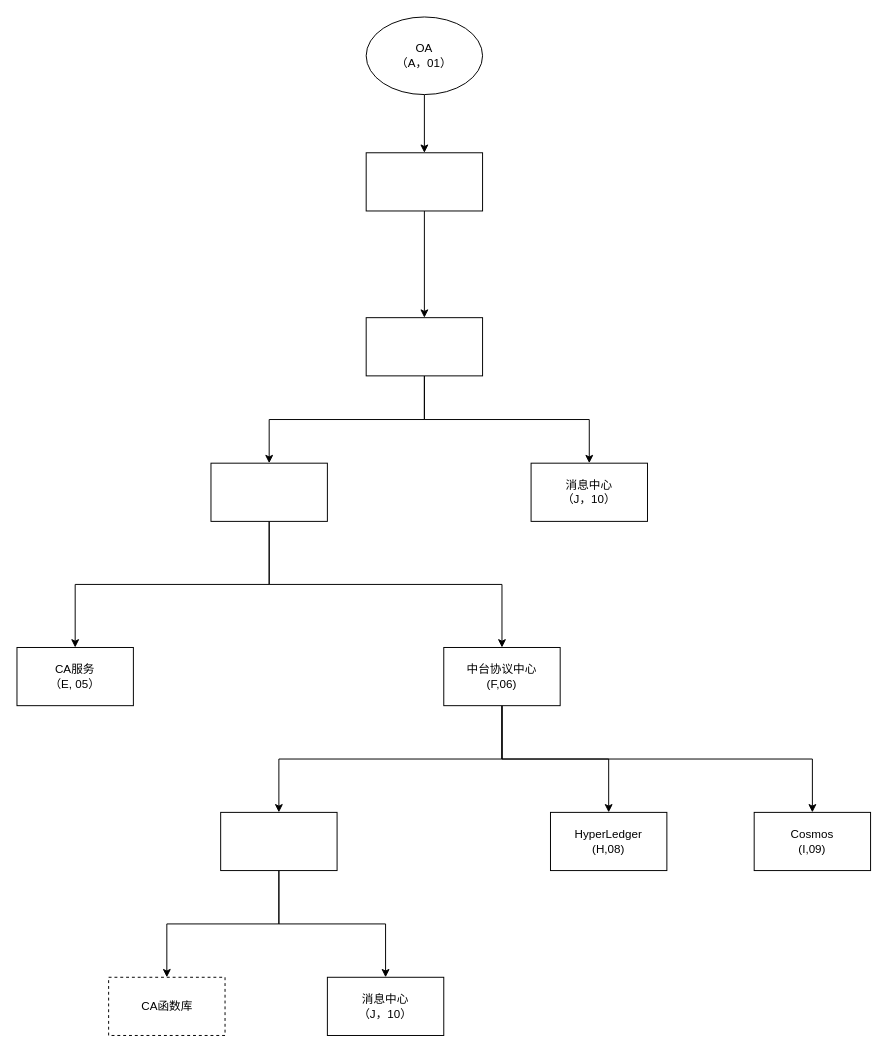
Image size: 888x1052. Some labels were removed from this diagram. Here are the shapes that lost their labels. From the top down, the centre of each, then its label:
At point 424,181: "开发空间 （B，02）".
At point 424,346: "注册中心 （C，03）".
At point 268,491: "中台证书服务 （含HSDK） （D，04）".
At point 278,841: "协议服务 (G,07)".
